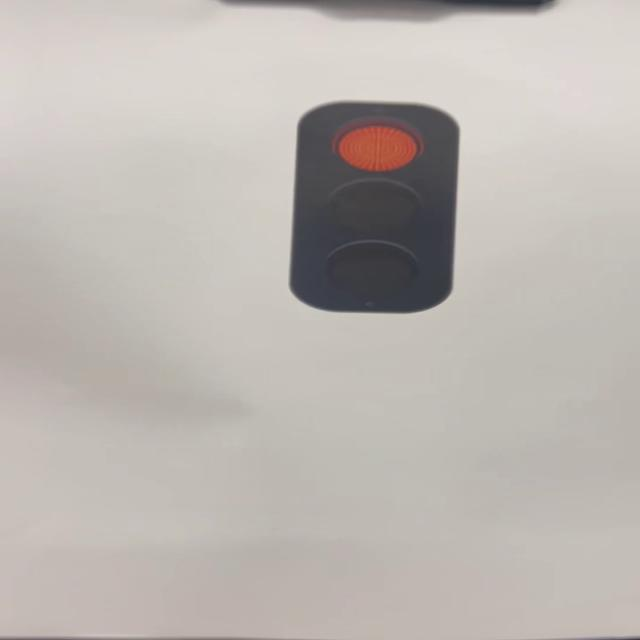red: (281, 99, 461, 317)
